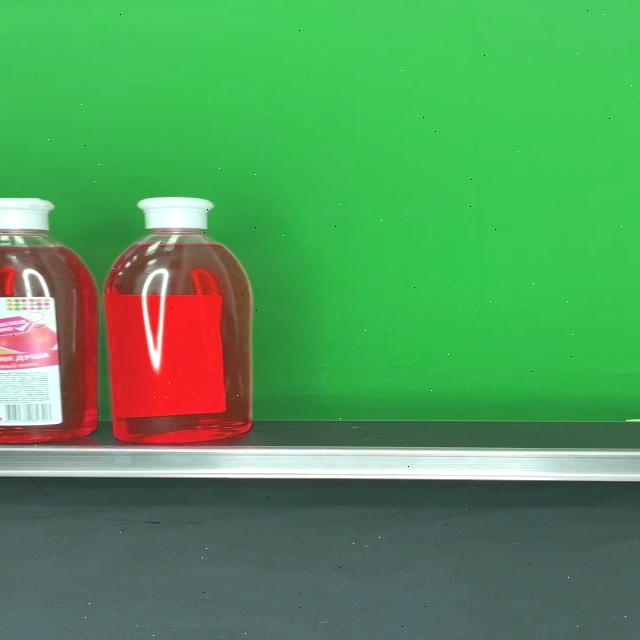Bottle: (104, 197, 252, 443)
Cap: (134, 197, 213, 229)
